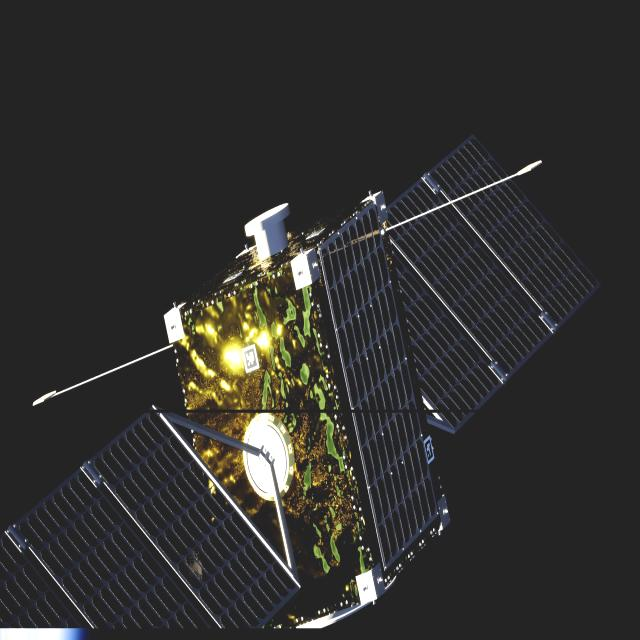satellite: (0, 136, 598, 633)
